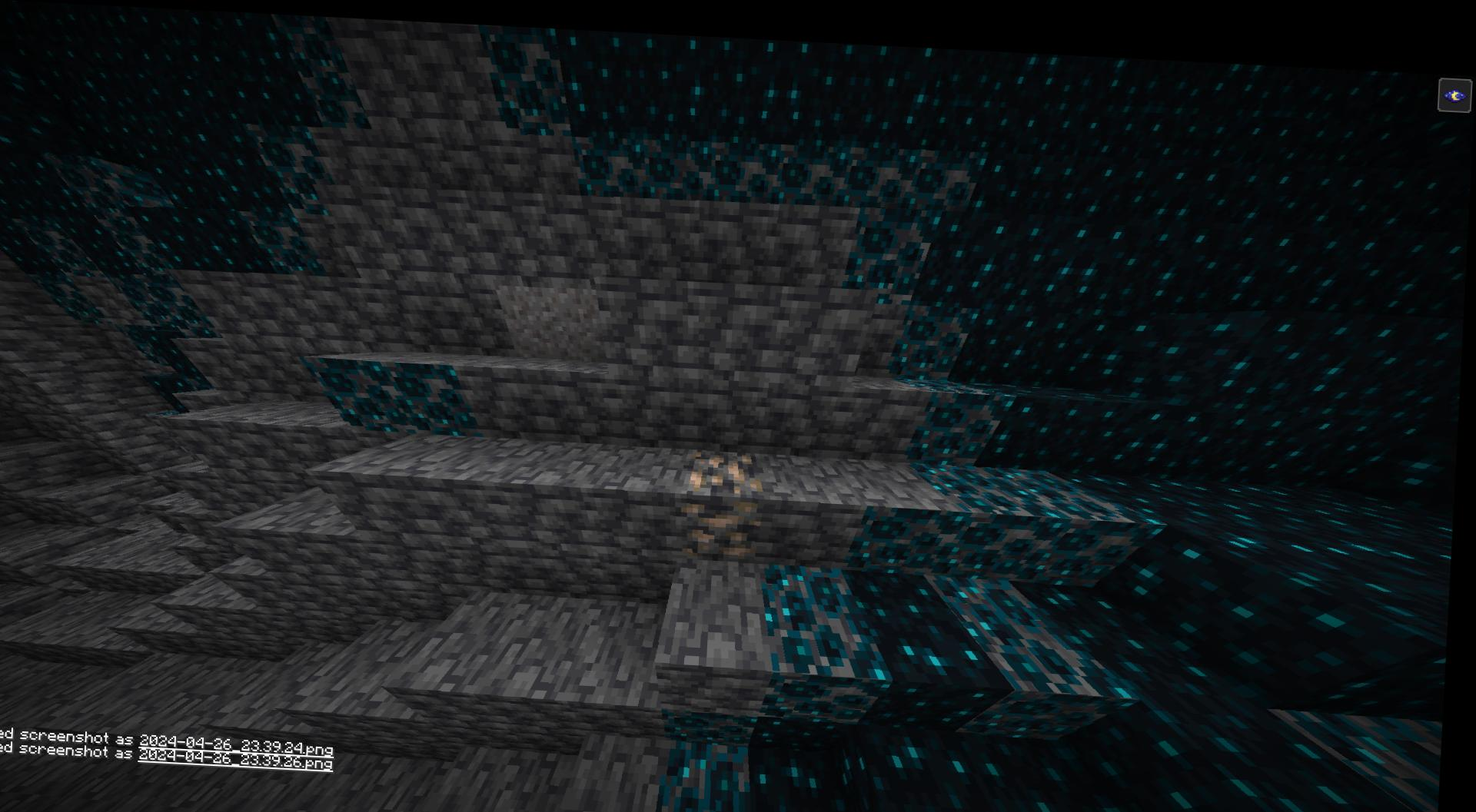iron ore: (687, 490, 772, 563), (686, 439, 770, 490)
